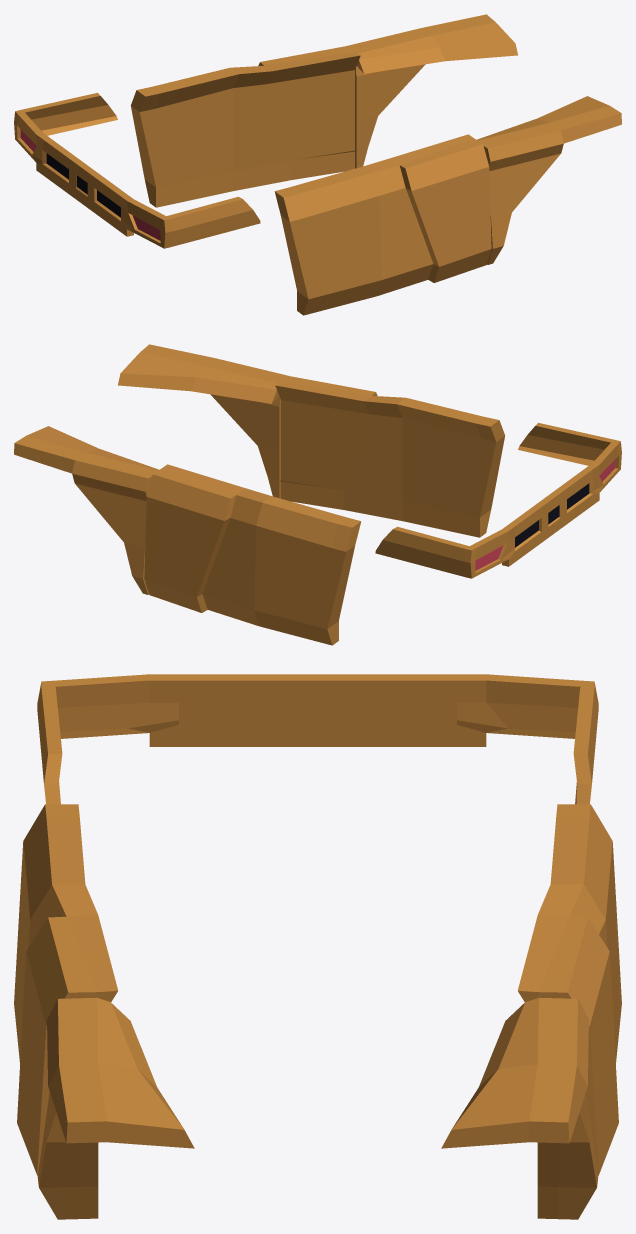
File: Car_Side.fbx
3 views of the same model, one above another, from view 1: azimuth 30°, elevation 25°; view 2: azimuth 150°, elevation 25°; view 3: azimuth 270°, elevation 25° (orthographic). The views are drawn at different scales.
Parts seen in each view (by area): view 1: Car_Side_Chassis; view 2: Car_Side_Chassis; view 3: Car_Side_Chassis.
Part boxes in pixels (x1,y1,x2,y2): Car_Side_Chassis: [14, 14, 621, 315]; Car_Side_Chassis: [14, 344, 621, 645]; Car_Side_Chassis: [14, 674, 621, 1219].
Bounding box in the file's own units: 222 × 370 × 95.55.
